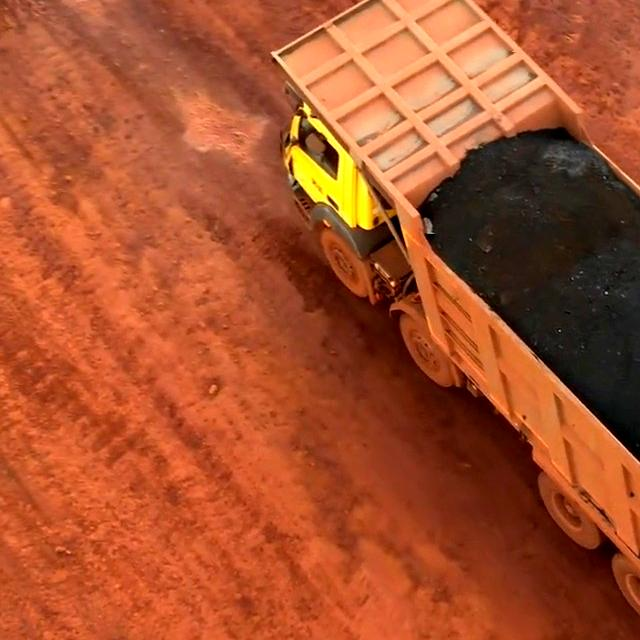Dumper truck: (299, 19, 592, 275), (571, 275, 640, 522)
